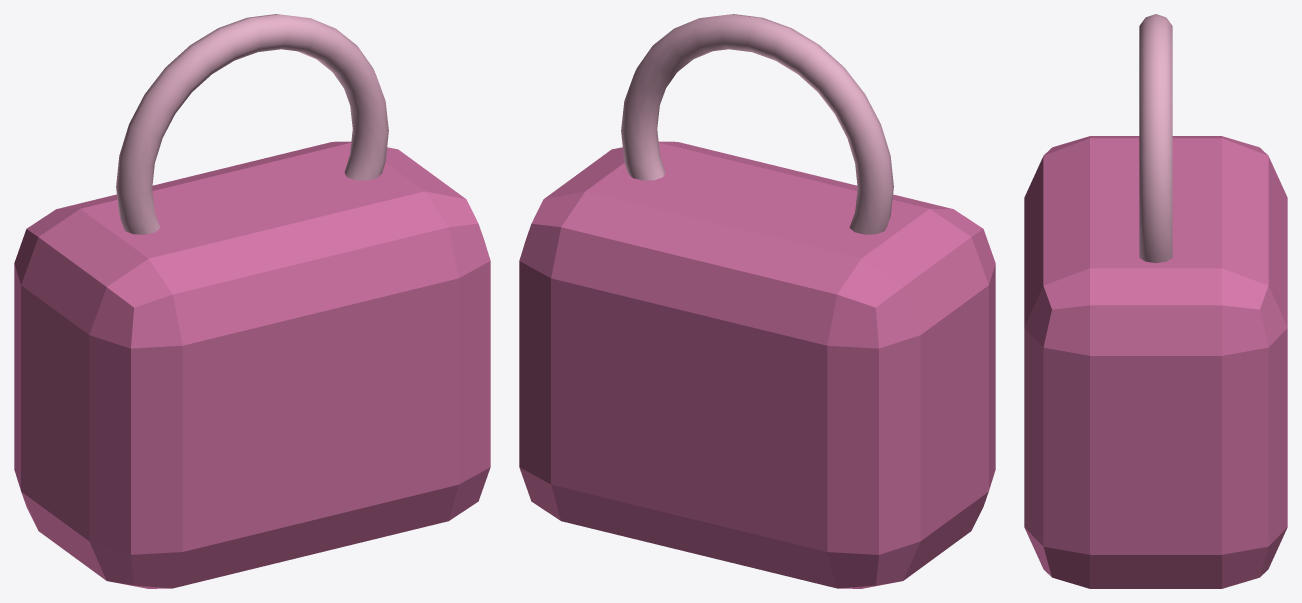
File: VM-ACC-EXT144.glb
The picture shows the model from 3 angles, left to right: view 1: azimuth 30°, elevation 25°; view 2: azimuth 150°, elevation 25°; view 3: azimuth 270°, elevation 25°; orthographic projection. The views are drawn at different scales.
Visible parts, largest first — view 1: Casco de Críquet; view 2: Casco de Críquet; view 3: Casco de Críquet.
Part boxes in pixels (x1,y1,x2,y2): Casco de Críquet: (14,14,490,588); Casco de Críquet: (519,14,995,588); Casco de Críquet: (1024,14,1287,588).
Size of the model in its own units: 0.1998 by 0.2478 by 0.1199.
